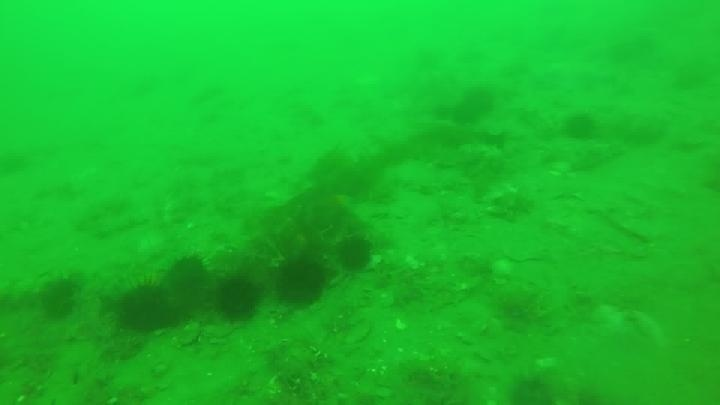echinus: (113, 279, 178, 336), (273, 254, 330, 309), (212, 272, 263, 323), (162, 253, 211, 304), (37, 274, 83, 322), (335, 234, 376, 274), (507, 374, 557, 404), (562, 111, 598, 143), (463, 85, 497, 113), (450, 105, 481, 126)
